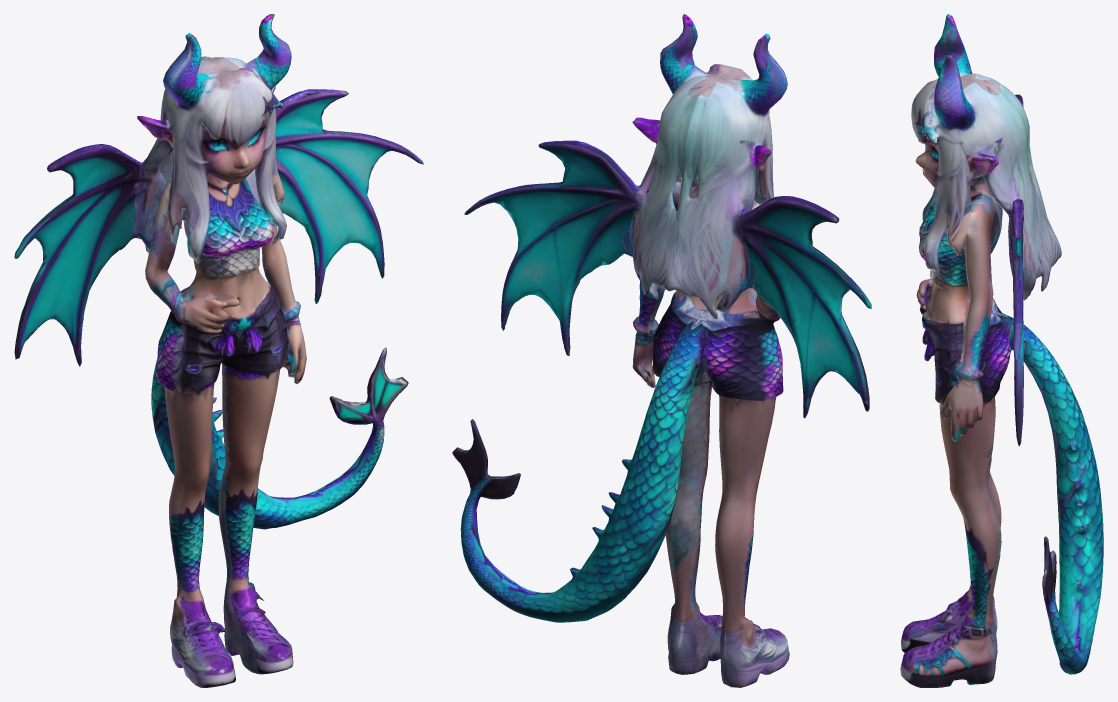
The model's file is dragon_girl.glb.
3 views of the same model, side by side, from view 1: azimuth 30°, elevation 25°; view 2: azimuth 150°, elevation 25°; view 3: azimuth 270°, elevation 25° (orthographic).
Size of the model in its own units: 1.34 by 2.01 by 0.5851.
Materials: 1 (1 with a texture image).
